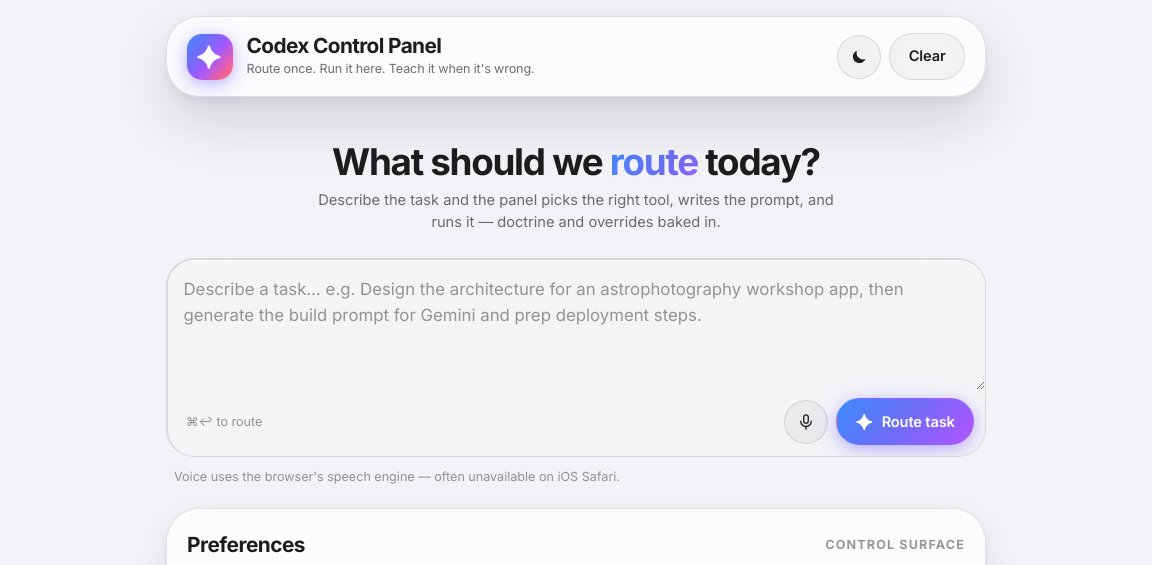
Test: Home page — control panel › shows an inline error when routing with an empty task
Click the button "Route task" at (905, 422), box [836, 398, 974, 445]
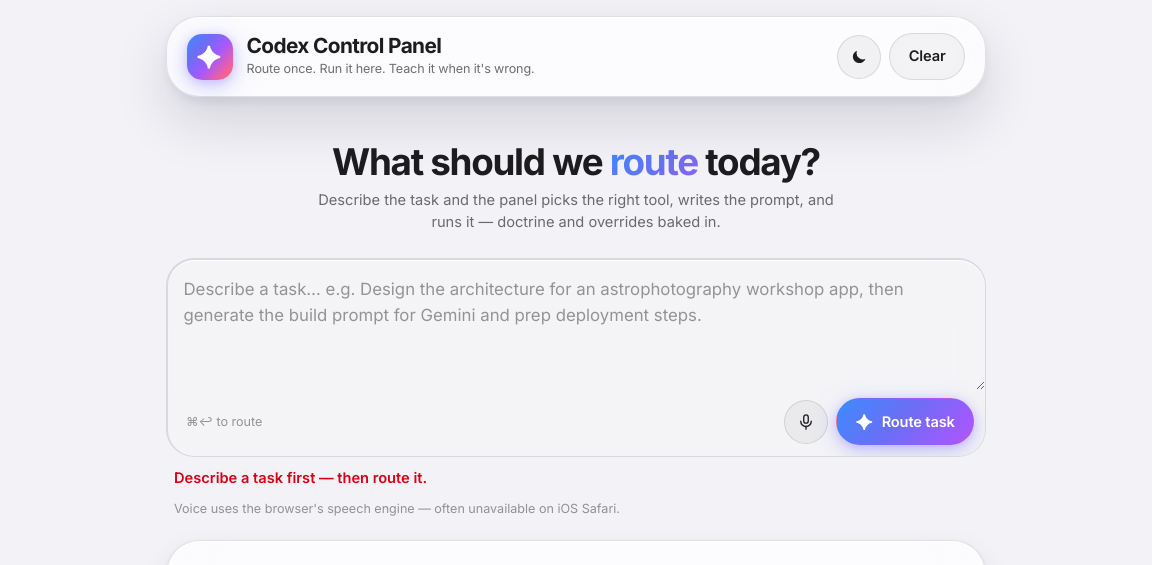
expect the message shows "Describe a task first": met, box [174, 469, 427, 487]
